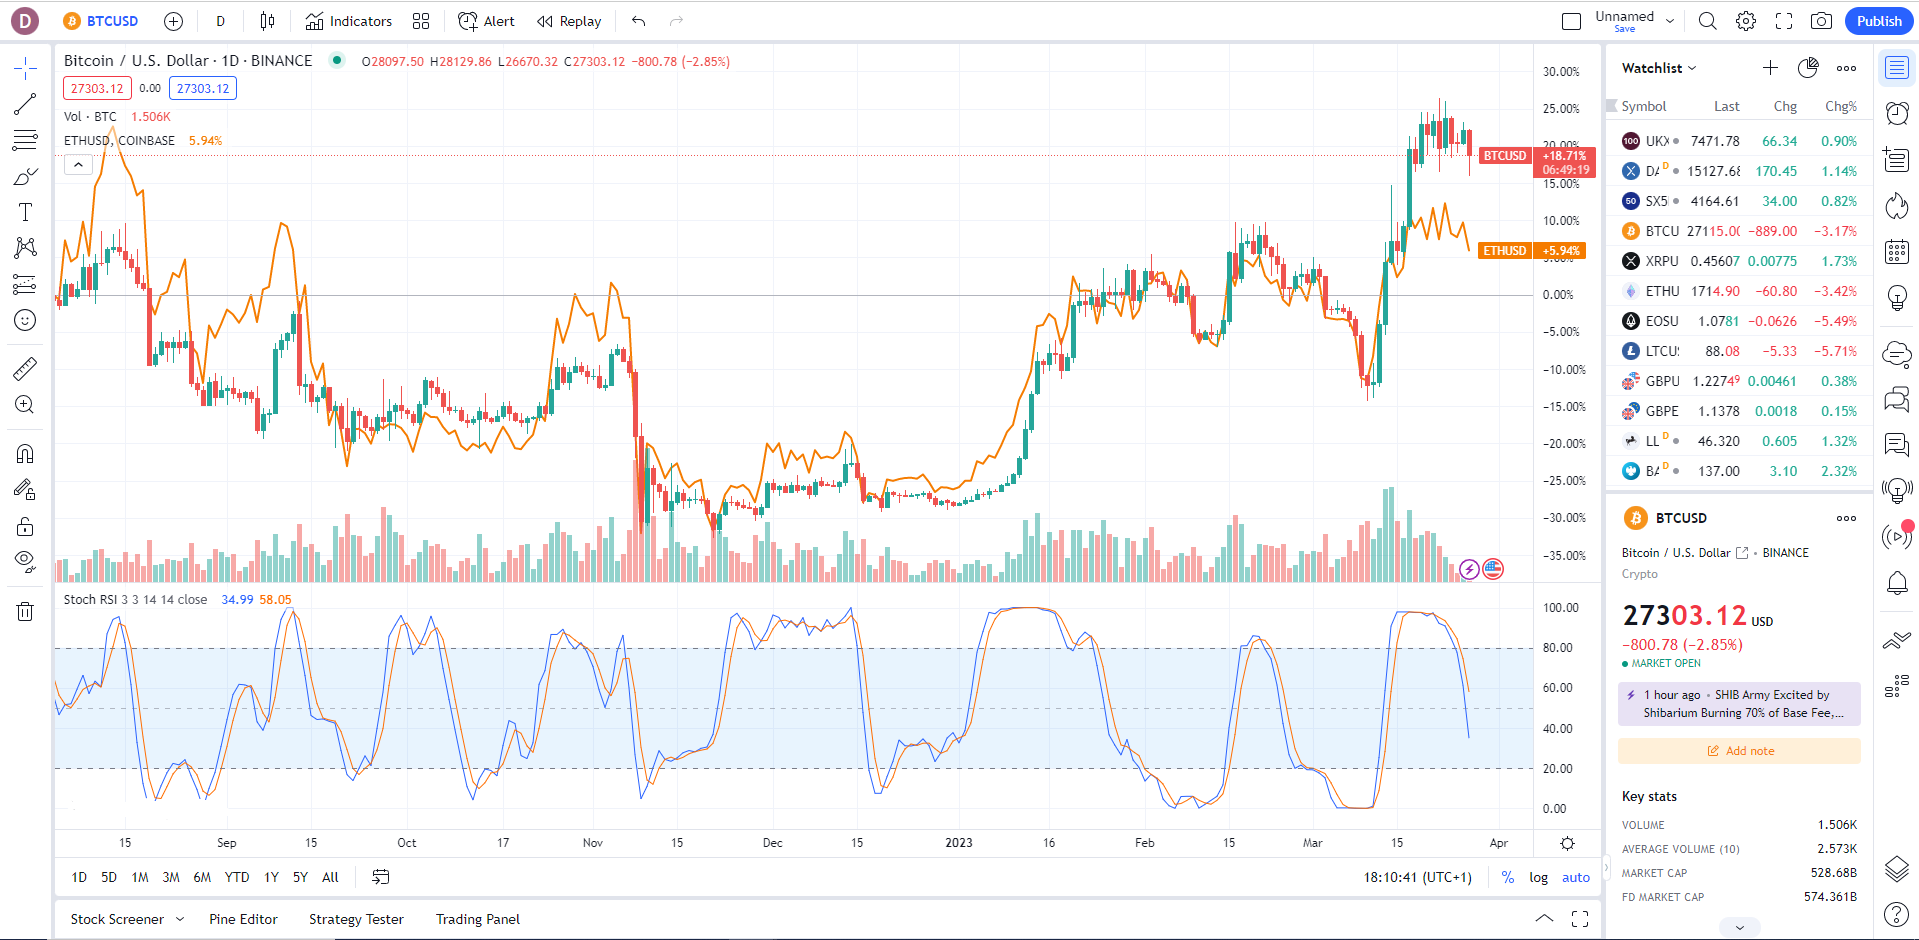block: (1607, 42, 1877, 940), (1604, 491, 1876, 940), (1, 1, 1918, 40), (56, 860, 1602, 900), (56, 902, 1601, 940), (1, 42, 49, 939), (1876, 42, 1919, 939), (1607, 40, 1877, 91), (1618, 681, 1861, 727)
button: (1615, 737, 1859, 767), (1844, 9, 1914, 35)
chart: (53, 45, 1602, 864)
form: (1614, 51, 1711, 82)
icon: (1536, 831, 1601, 860), (1, 1, 49, 40), (2, 44, 47, 84), (2, 82, 47, 122), (2, 120, 47, 160), (155, 4, 199, 42), (4, 228, 47, 263), (2, 388, 45, 423), (2, 436, 45, 471), (4, 510, 47, 546), (5, 350, 47, 386), (2, 543, 44, 579), (5, 592, 47, 628), (4, 160, 47, 195), (2, 302, 45, 337), (4, 472, 47, 507), (7, 192, 49, 226), (2, 264, 44, 299), (247, 6, 288, 40), (622, 5, 658, 40), (1879, 666, 1914, 703), (1880, 379, 1915, 416), (1880, 234, 1915, 270), (1879, 48, 1914, 84), (1792, 48, 1827, 84), (1755, 48, 1790, 84), (1567, 901, 1601, 939), (1879, 624, 1914, 660), (1881, 427, 1917, 463), (1881, 335, 1917, 371), (1881, 144, 1917, 180), (1881, 98, 1917, 133), (1832, 50, 1868, 86), (449, 4, 483, 40), (408, 5, 444, 39), (1882, 517, 1917, 553), (1882, 564, 1917, 600), (1882, 471, 1917, 507), (1884, 280, 1918, 316), (1882, 187, 1917, 223), (1529, 900, 1560, 938), (293, 4, 328, 37), (1882, 851, 1913, 889), (1884, 897, 1914, 934), (54, 2, 87, 35), (531, 2, 559, 40), (1559, 4, 1592, 35), (1722, 914, 1764, 939), (1767, 5, 1799, 35), (1806, 4, 1838, 34), (1693, 6, 1724, 35), (1731, 7, 1762, 37), (1622, 501, 1651, 532), (1682, 49, 1707, 84), (1617, 365, 1647, 394), (166, 905, 195, 936), (1832, 505, 1866, 531), (663, 7, 694, 35), (1618, 244, 1646, 274), (1618, 217, 1647, 245), (1619, 335, 1646, 365), (368, 864, 397, 891), (1618, 455, 1642, 486), (1617, 426, 1642, 454), (1618, 185, 1642, 214), (1622, 397, 1646, 426), (1622, 302, 1644, 334), (1617, 129, 1642, 154), (66, 152, 93, 176), (1615, 159, 1642, 184), (1732, 541, 1757, 565), (1704, 737, 1726, 763), (1622, 280, 1646, 302), (1458, 559, 1478, 583), (1663, 7, 1683, 31), (1485, 559, 1503, 581), (1622, 685, 1639, 709)
table: (1607, 91, 1876, 490), (1615, 780, 1863, 909)
